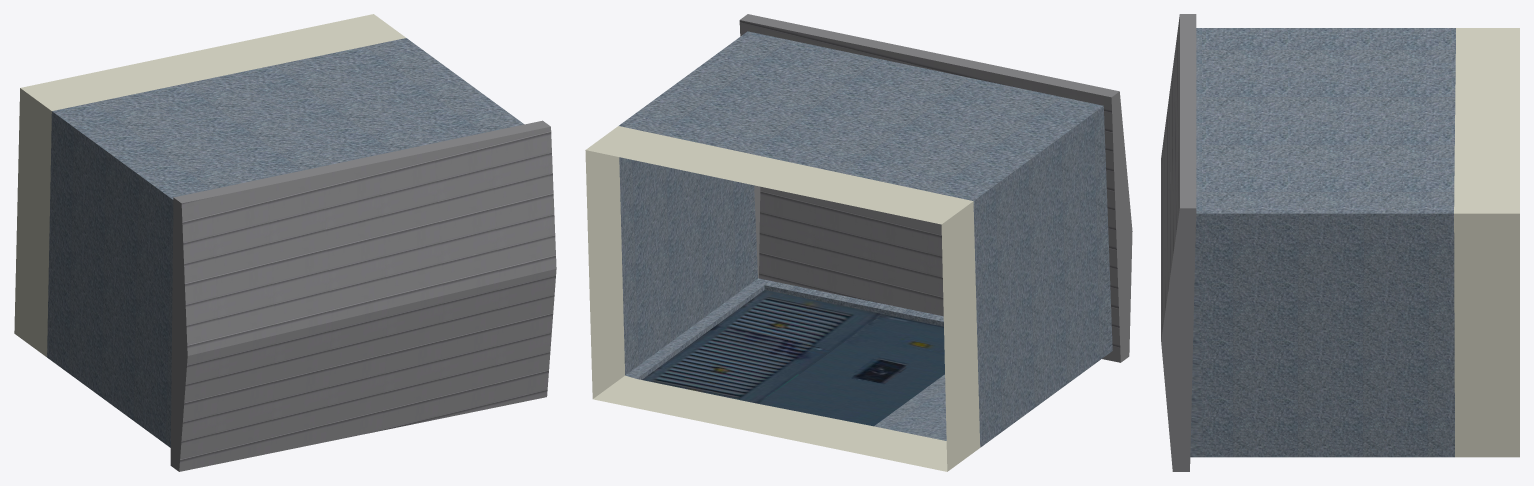
The model's file is Ryytli15.obj.
The picture shows the model from 3 angles, left to right: view 1: azimuth 30°, elevation 25°; view 2: azimuth 150°, elevation 25°; view 3: azimuth 270°, elevation 25°; orthographic projection.
Visible parts, largest first — view 1: polySurface2; view 2: polySurface2; view 3: polySurface2.
Part boxes in pixels (bbox=[...]): polySurface2: bbox=[14, 14, 556, 471]; polySurface2: bbox=[585, 14, 1132, 471]; polySurface2: bbox=[1161, 14, 1519, 471].
Bounding box in the file's own units: 3.61 × 2.57 × 2.97.
